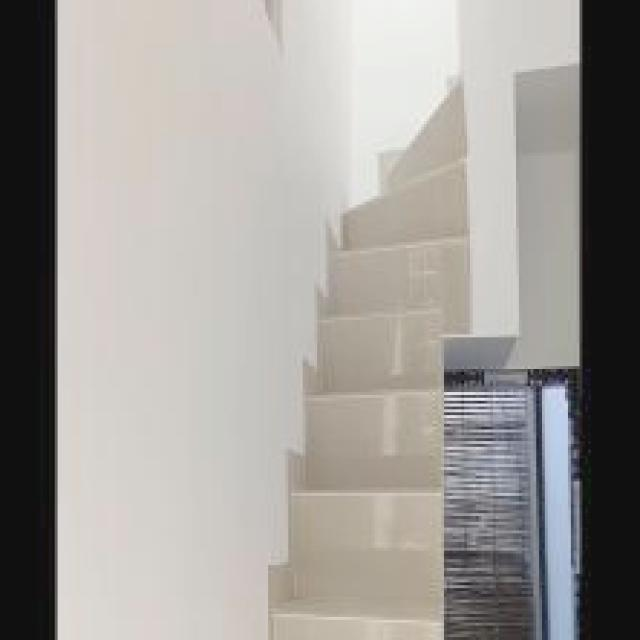upstair: (275, 237, 451, 640)
